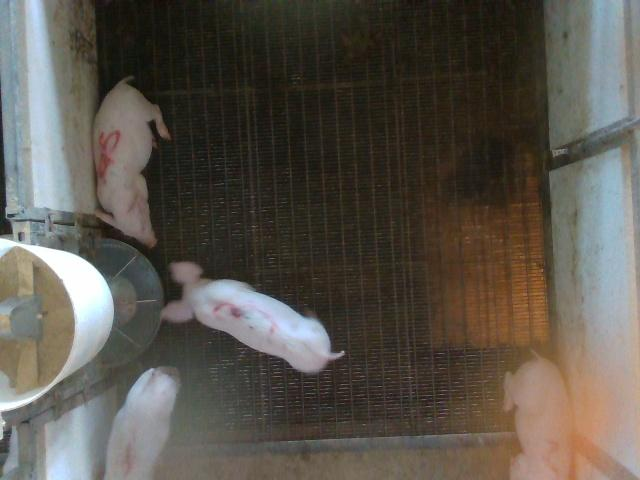pig-1: (104, 366, 180, 479)
pig-2: (504, 354, 571, 478)
pig-3: (161, 261, 344, 372)
pig-5: (94, 76, 170, 248)
